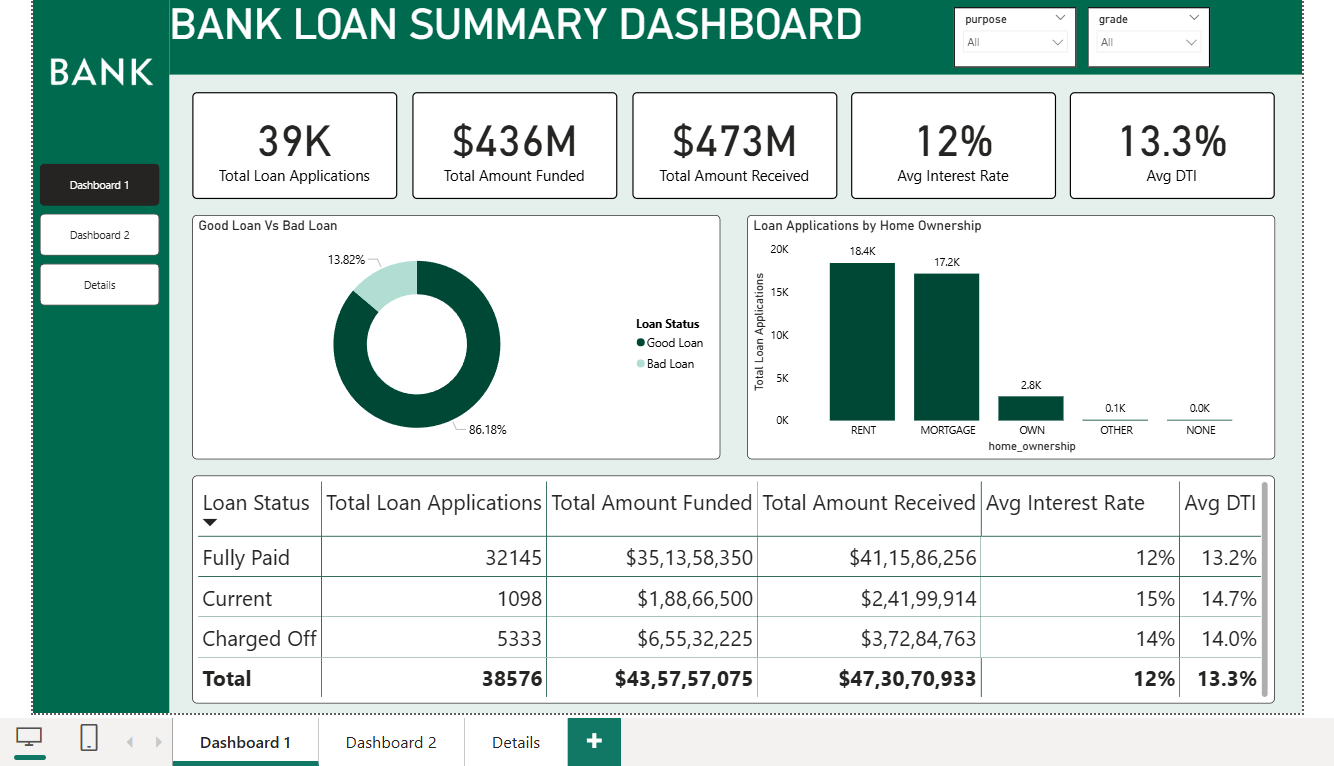

This screenshot's page, from the dashboard's own definition file:
{"tool":"powerbi","page":{"name":"Dashboard 1","canvas":[1600,900],"ordinal":0},"visuals":[{"type":"shape","box":[0,0,172,900.7],"z":0},{"type":"shape","box":[172,0,1428.5,95.4],"z":1000},{"type":"card","fields":{"Values":["public loan.Total Loan Applications"]},"box":[201.6,117.5,258.8,134.5],"z":2000},{"type":"card","fields":{"Values":["public loan.Total Amount Funded"]},"box":[479.1,117.5,258.8,134.5],"z":3000},{"type":"card","fields":{"Values":["public loan.Total Amount Received"]},"box":[756.7,117.5,258.8,134.5],"z":4000},{"type":"card","fields":{"Values":["public loan.Avg Interest Rate"]},"box":[1032.5,117.5,258.8,134.5],"z":5000},{"type":"card","fields":{"Values":["public loan.Avg DTI"]},"box":[1308.3,117.5,258.8,134.5],"z":6000},{"type":"donutChart","title":"Good Loan Vs Bad Loan","fields":{"Y":["public loan.Total Loan Applications"],"Category":["public loan.Loan Status"]},"box":[200.9,272.4,665.7,308.2],"z":7000},{"type":"columnChart","title":"Loan Applications by Home Ownership","fields":{"Category":["public loan.home_ownership"],"Y":["public loan.Total Loan Applications"]},"box":[900.7,272.4,665.7,308.2],"z":8000},{"type":"pivotTable","fields":{"Rows":["public loan.loan_status"],"Values":["public loan.Total Loan Applications","public loan.Total Amount Funded","public loan.Total Amount Received","public loan.Avg Interest Rate","public loan.Avg DTI"]},"box":[200.9,601,1365.6,287.8],"z":9000},{"type":"image","box":[13.6,20.4,146.4,139.6],"z":10000},{"type":"pageNavigator","box":[8.5,207.7,151.5,180.5],"z":11000},{"type":"slicer","fields":{"Values":["public loan.grade"]},"box":[1329.8,10.2,154.9,76.6],"z":12000},{"type":"slicer","fields":{"Values":["public loan.purpose"]},"box":[1161.2,10.2,154.9,76.6],"z":13000}]}

Visuals, with their boxes on the page's 1600x900 design canvas (x1, y1, x2, y2). These are canvas units, not pixel positions in the 1334x766 screenshot, which may show the page scaled, cropped or inside an application window:
shape: pyautogui.locateOnScreen(0, 0, 172, 901)
shape: pyautogui.locateOnScreen(172, 0, 1600, 95)
card - public loan.Total Loan Applications: pyautogui.locateOnScreen(202, 118, 460, 252)
card - public loan.Total Amount Funded: pyautogui.locateOnScreen(479, 118, 738, 252)
card - public loan.Total Amount Received: pyautogui.locateOnScreen(757, 118, 1016, 252)
card - public loan.Avg Interest Rate: pyautogui.locateOnScreen(1032, 118, 1291, 252)
card - public loan.Avg DTI: pyautogui.locateOnScreen(1308, 118, 1567, 252)
"Good Loan Vs Bad Loan" donutChart: pyautogui.locateOnScreen(201, 272, 867, 581)
"Loan Applications by Home Ownership" columnChart: pyautogui.locateOnScreen(901, 272, 1566, 581)
pivotTable - public loan.loan_status x public loan.Total Loan Applications: pyautogui.locateOnScreen(201, 601, 1566, 889)
image: pyautogui.locateOnScreen(14, 20, 160, 160)
pageNavigator: pyautogui.locateOnScreen(8, 208, 160, 388)
slicer - public loan.grade: pyautogui.locateOnScreen(1330, 10, 1485, 87)
slicer - public loan.purpose: pyautogui.locateOnScreen(1161, 10, 1316, 87)
